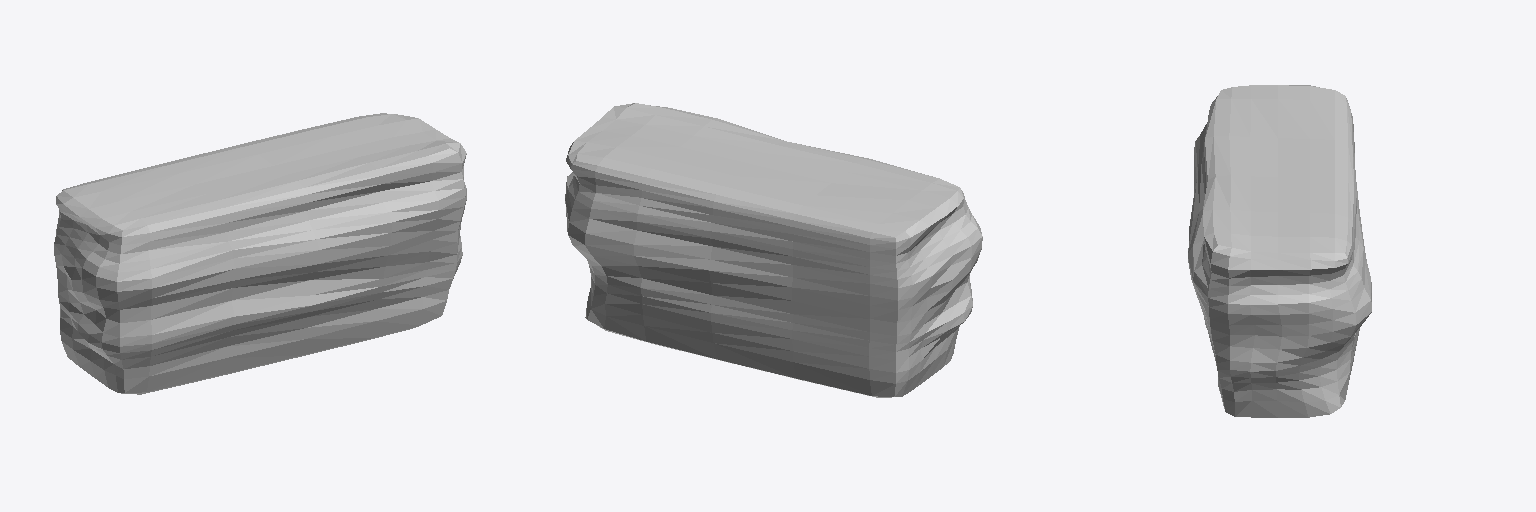
The model's file is PM3D_rock016_005.OBJ.
The picture shows the model from 3 angles: view 1: azimuth 30°, elevation 25°; view 2: azimuth 150°, elevation 25°; view 3: azimuth 270°, elevation 25°; orthographic projection.
Visible parts, largest first — view 1: Group39266; view 2: Group39266; view 3: Group39266.
Part boxes in pixels (bbox=[...]): Group39266: bbox=[54, 113, 466, 394]; Group39266: bbox=[565, 103, 982, 397]; Group39266: bbox=[1188, 85, 1371, 417].
Bounding box in the file's own units: 6731 × 3078 × 2846.